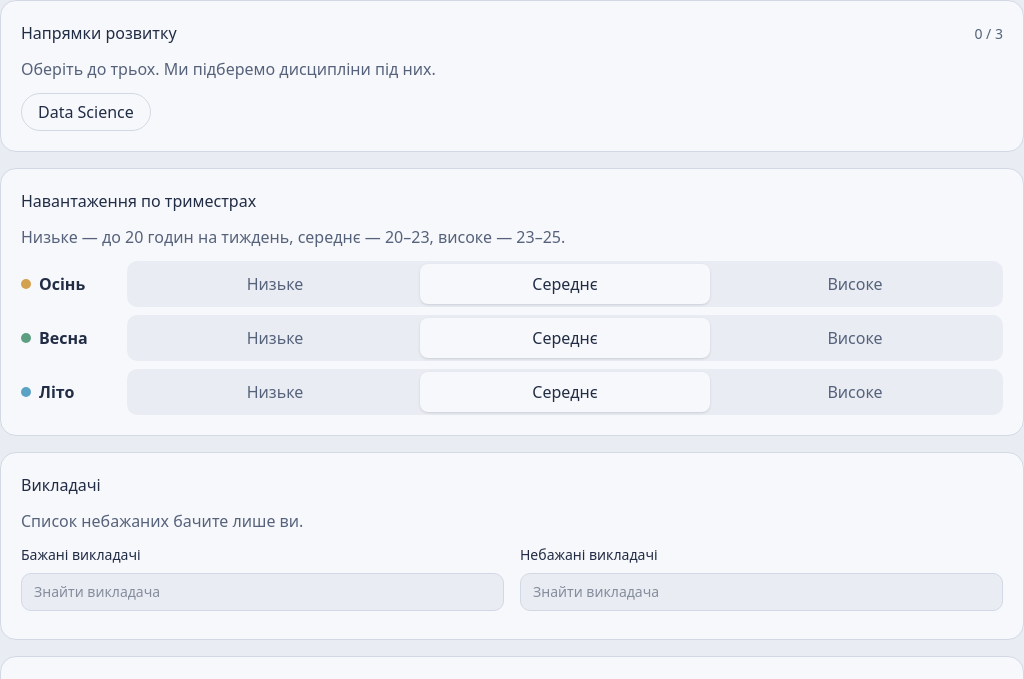
Test: пошук і вибір викладачів › після видалення з «Бажаних» викладача можна додати до «Небажаних»
Type "Пет" into the search field named "Знайти викладача (бажані)" at (262, 592), box [21,573,504,611]
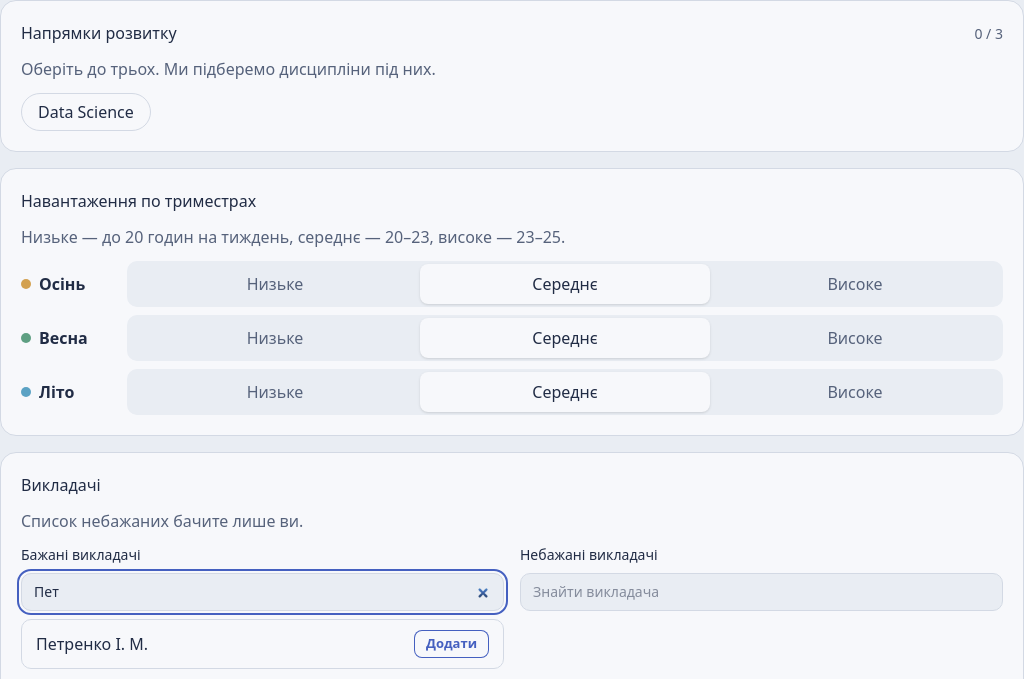
Click the button with aria-label "Додати Петренко І. М." at (452, 644), box [414,630,489,658]
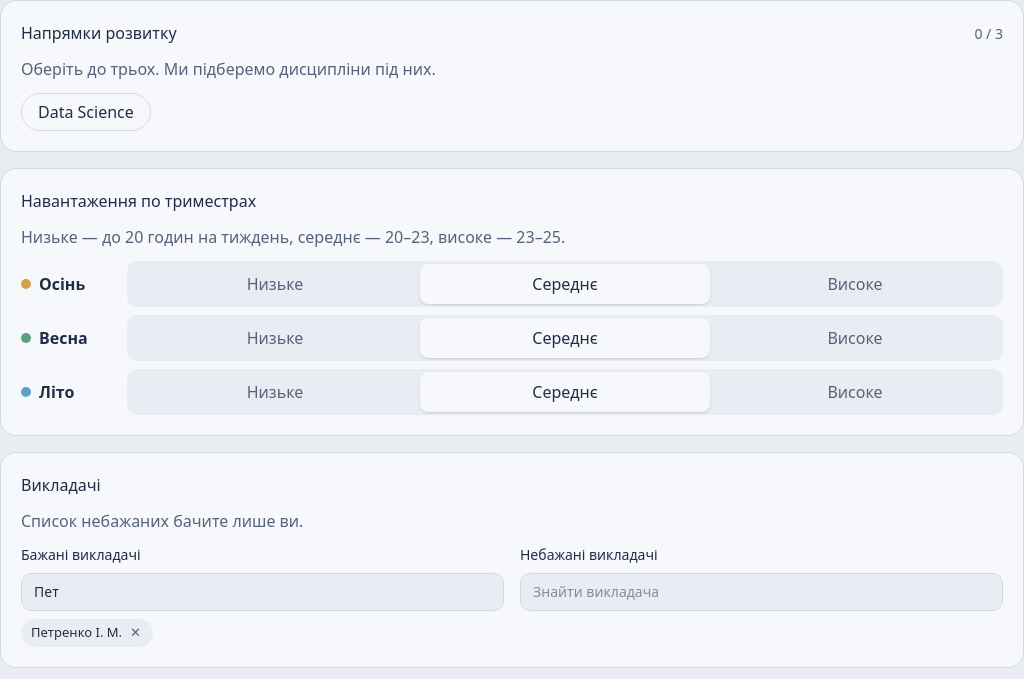
Click the button named "Прибрати Петренко І. М." at (135, 633), box [128,623,143,642]
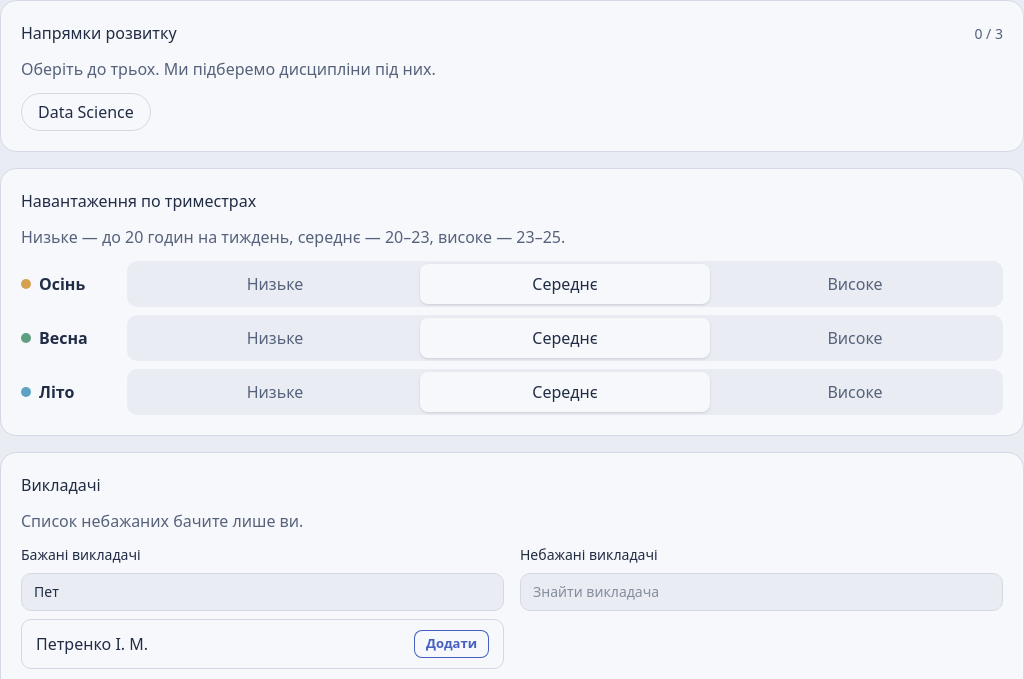
Type "Пет" into the search field named "Знайти викладача (небажані)" at (762, 592), box [520,573,1003,611]
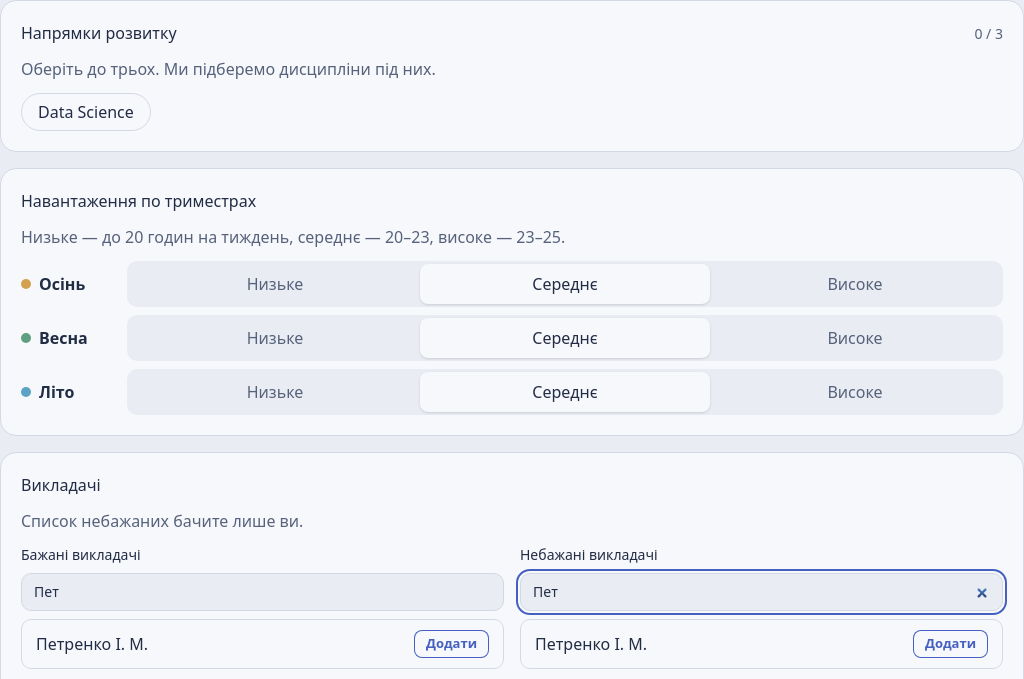
# «Бажані» теж ще показують пошукову підказку, тож шукаємо кнопку лише в «Небажаних».
Click the button with aria-label "Додати Петренко І. М." at (950, 644), box [913,630,988,658]
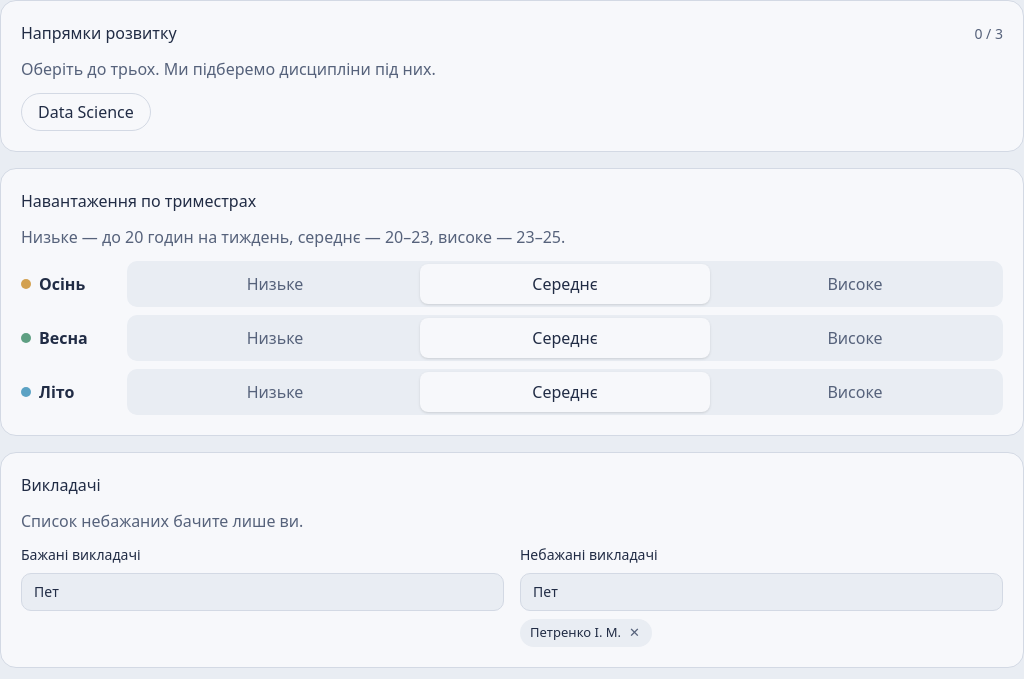
Check: the text "Петренко І. М." is shown, box [530,623,621,641]
